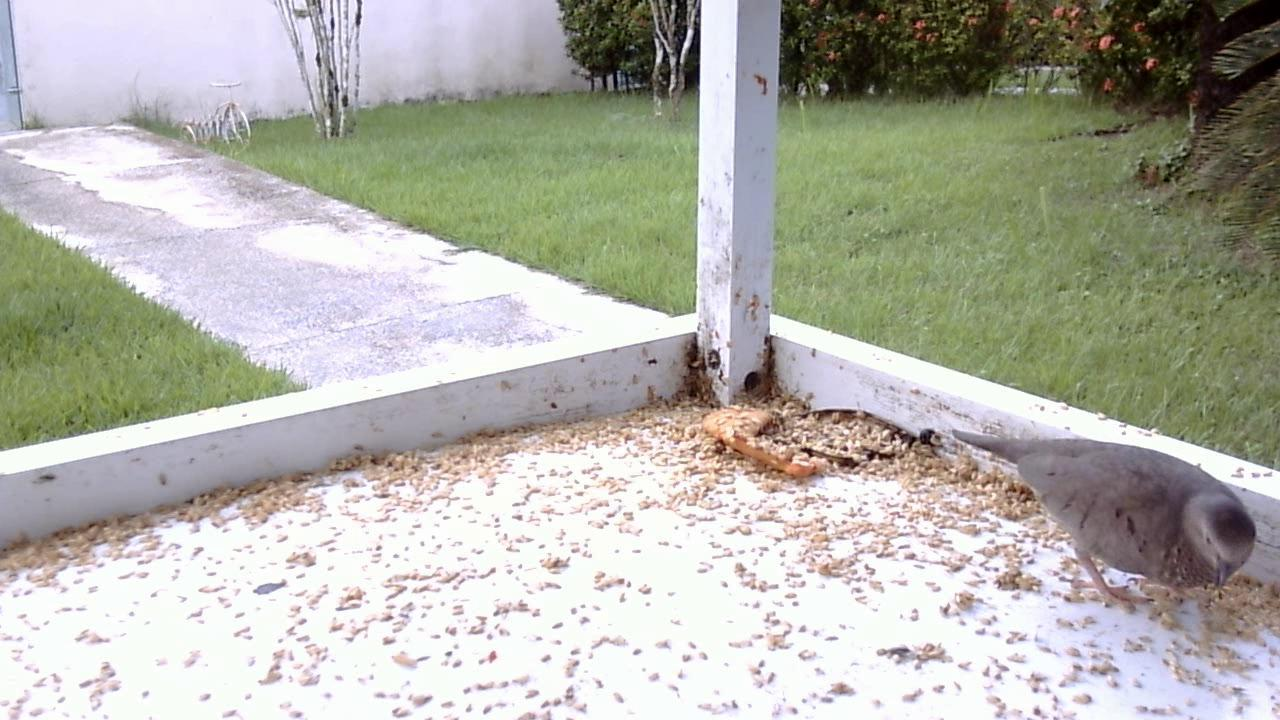rolinha: (919, 414, 1262, 609)
